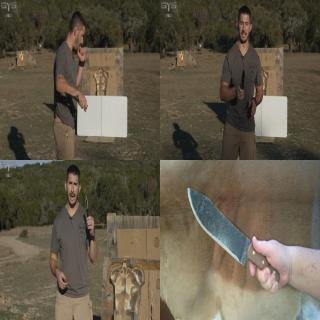knife: (185, 184, 281, 294), (63, 87, 89, 113), (84, 192, 94, 228), (236, 67, 246, 99)
